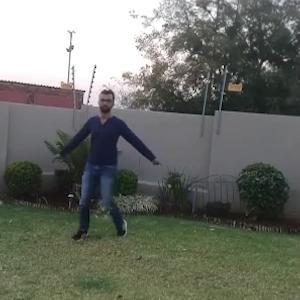land: (62, 95, 159, 223)
